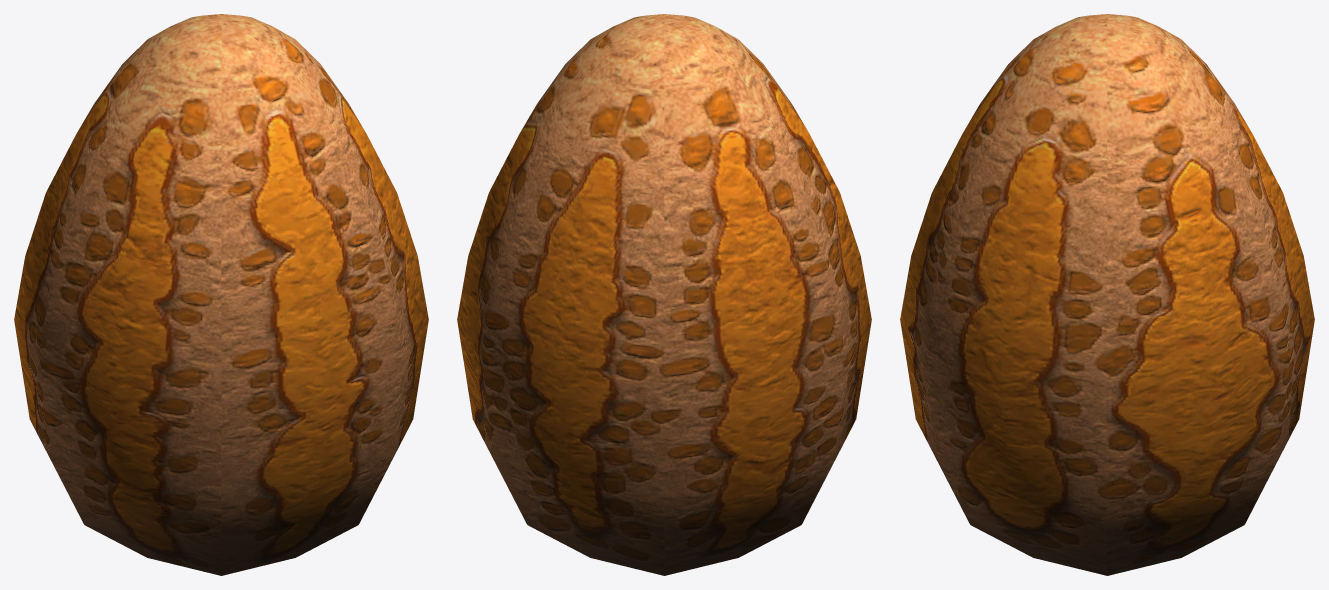
Rendered from BuffalordEgg.obj.
3 views of the same model, side by side, from view 1: azimuth 30°, elevation 25°; view 2: azimuth 150°, elevation 25°; view 3: azimuth 270°, elevation 25° (orthographic).
Visible parts, largest first — view 1: PfEggBuffalordout; view 2: PfEggBuffalordout; view 3: PfEggBuffalordout.
Part boxes in pixels (x1,y1,x2,y2): PfEggBuffalordout: [14, 14, 428, 575]; PfEggBuffalordout: [457, 14, 871, 575]; PfEggBuffalordout: [900, 14, 1314, 575].
Bounding box in the file's own units: 0.3546 × 0.4991 × 0.352.
